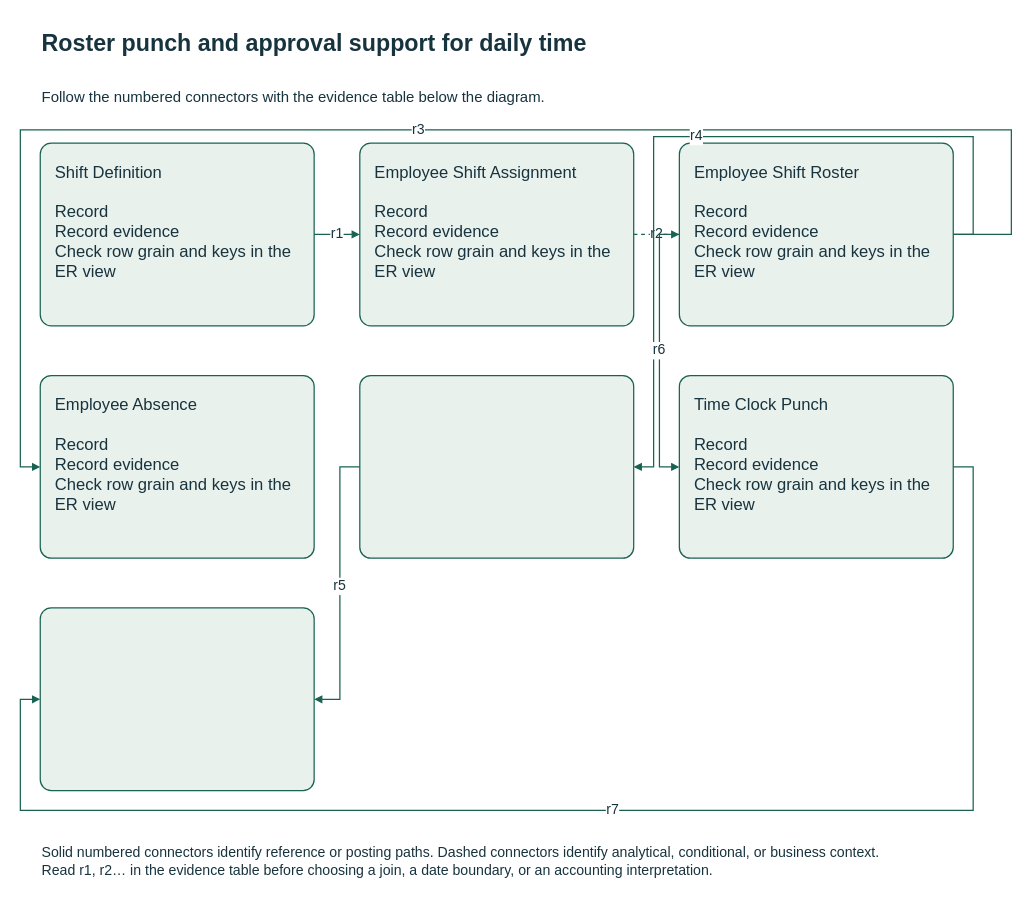
This 1033x901 diagram has some shape labels left out. Here are the shapes that lost their labels. From the top down, the centre of each, then its label:
At point (496, 466): "Overtime Approval Record Record evidence Check row grain and keys in the ER view".
At point (176, 699): "Time Clock Entry Record Record evidence Check row grain and keys in the ER view".
